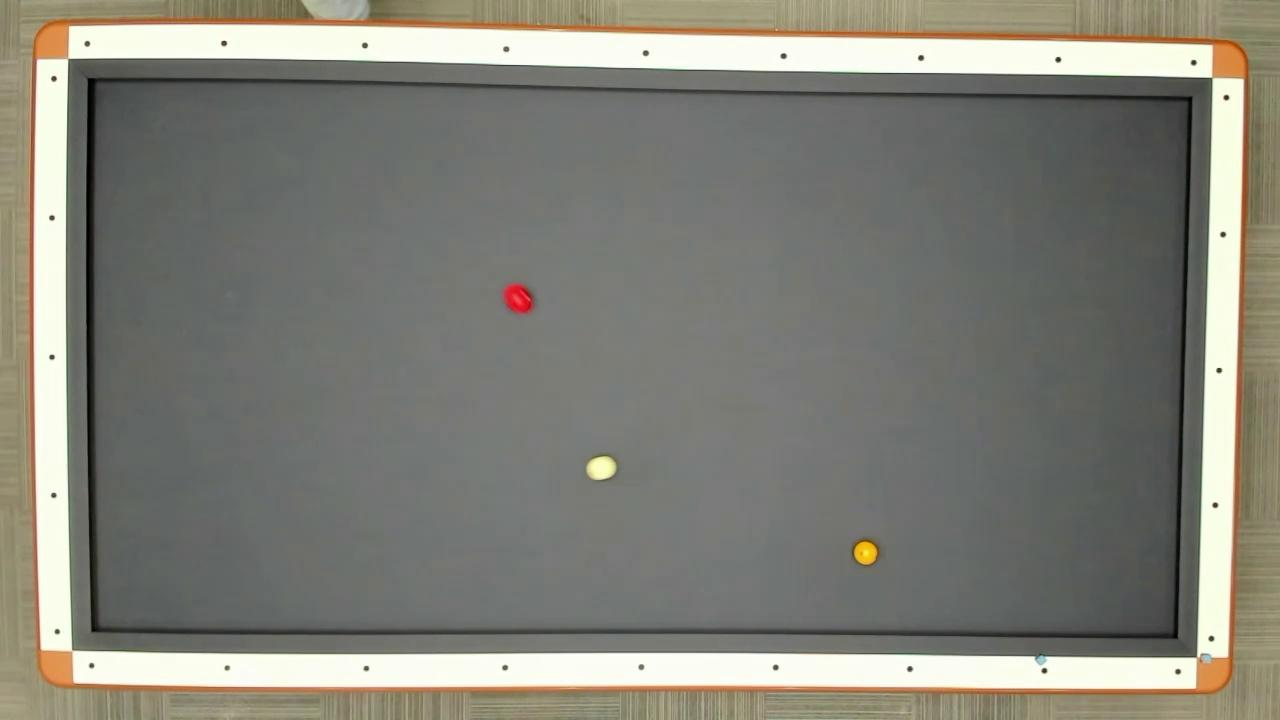Red: (500, 282, 534, 316)
White: (584, 454, 620, 485)
Yellow: (852, 540, 880, 568)
